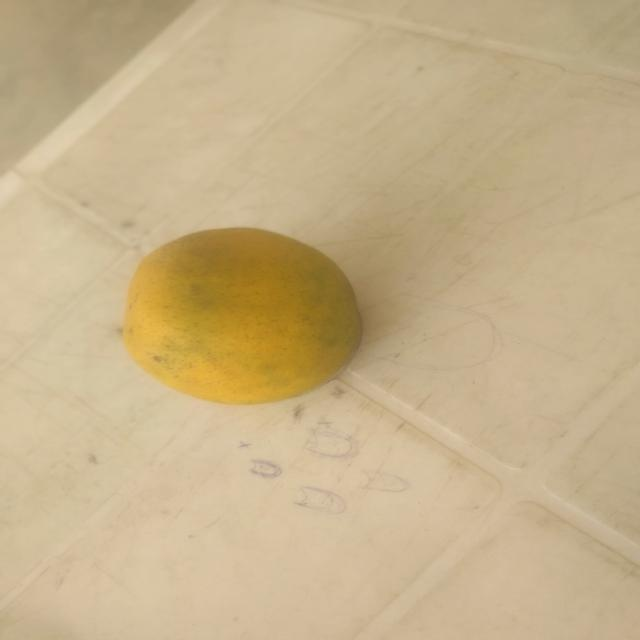agrume: (94, 180, 392, 449)
